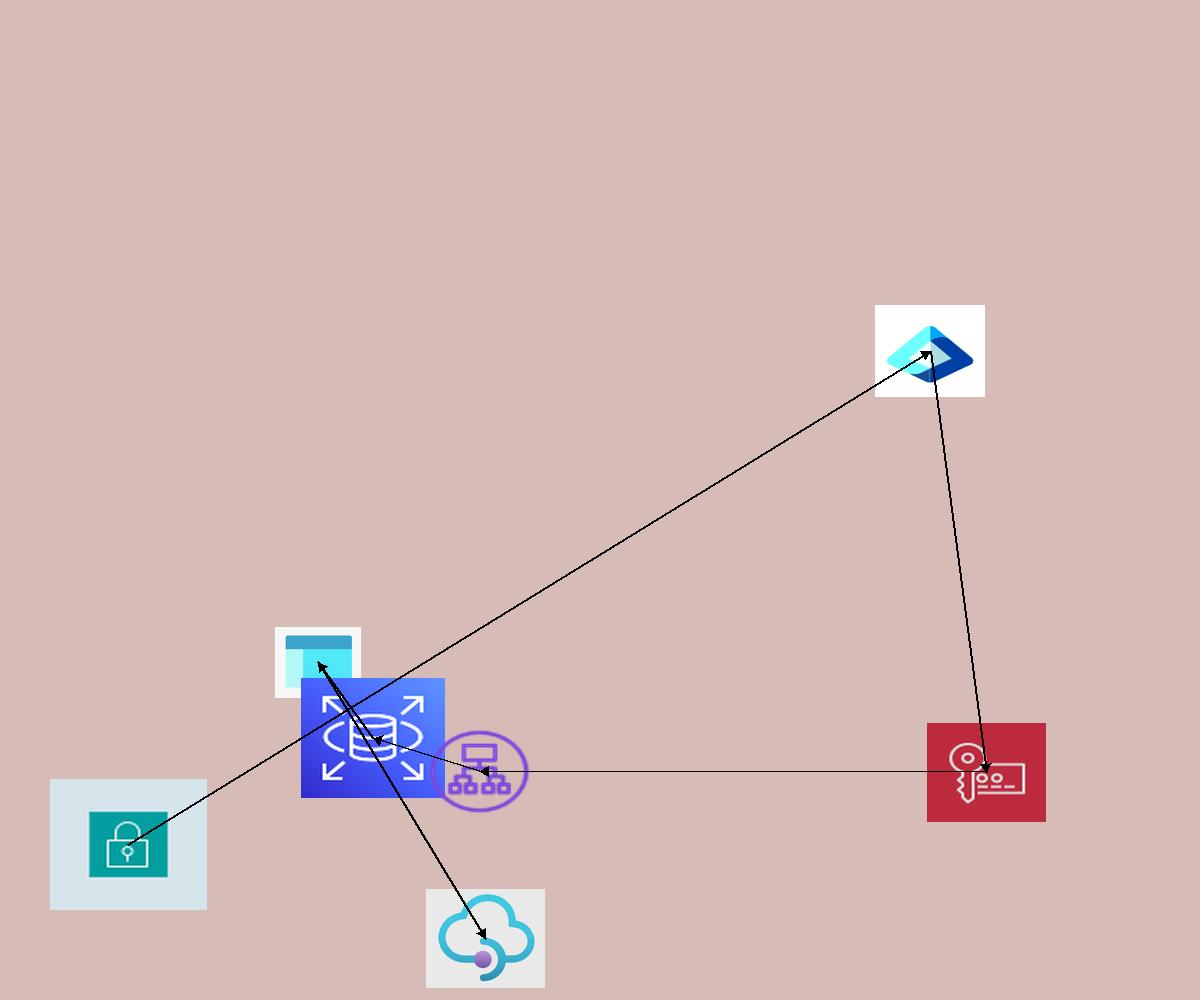AWS-Key-Management-Service: (927, 723, 1046, 822)
AWS-Private-subnet: (50, 779, 207, 910)
AWS-RDS: (301, 678, 445, 798)
AWS-Res_Elastic-Load-Balancing_Application-Load-Balancer: (426, 727, 533, 816)
Azure_api_gateway: (426, 889, 545, 988)
Azure_management-portal: (275, 627, 361, 698)
Azure_microsoft_entra: (875, 305, 985, 397)
